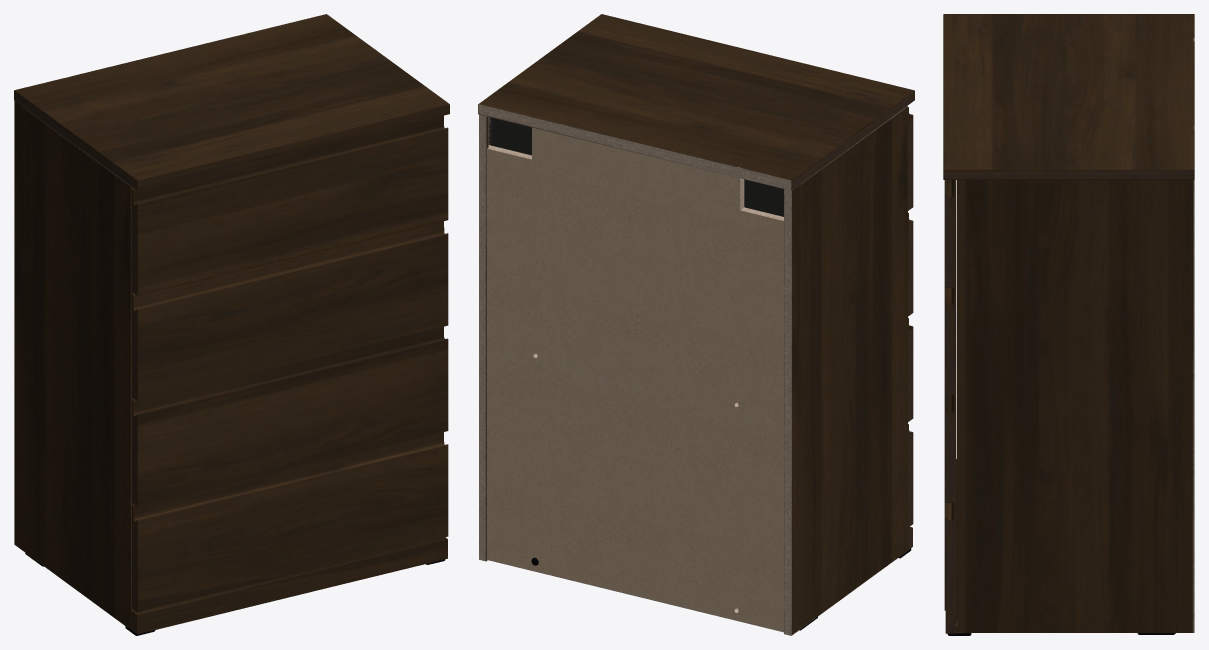
File: STORKLINTA 4-drawer chest.glb
3 views of the same model, side by side, from view 1: azimuth 30°, elevation 25°; view 2: azimuth 150°, elevation 25°; view 3: azimuth 270°, elevation 25° (orthographic). The views are drawn at different scales.
Parts seen in each view (by area): view 1: 60559288-STORKLINTA001; view 2: 60559288-STORKLINTA001; view 3: 60559288-STORKLINTA001.
Boxes of the visible parts, x1,y1,x2,y2 form: 60559288-STORKLINTA001: [14, 14, 449, 635]; 60559288-STORKLINTA001: [478, 14, 914, 635]; 60559288-STORKLINTA001: [943, 14, 1194, 635].
Bounding box in the file's own units: 0.6991 × 0.9775 × 0.4761.
Materials: 1 (1 with a texture image).
